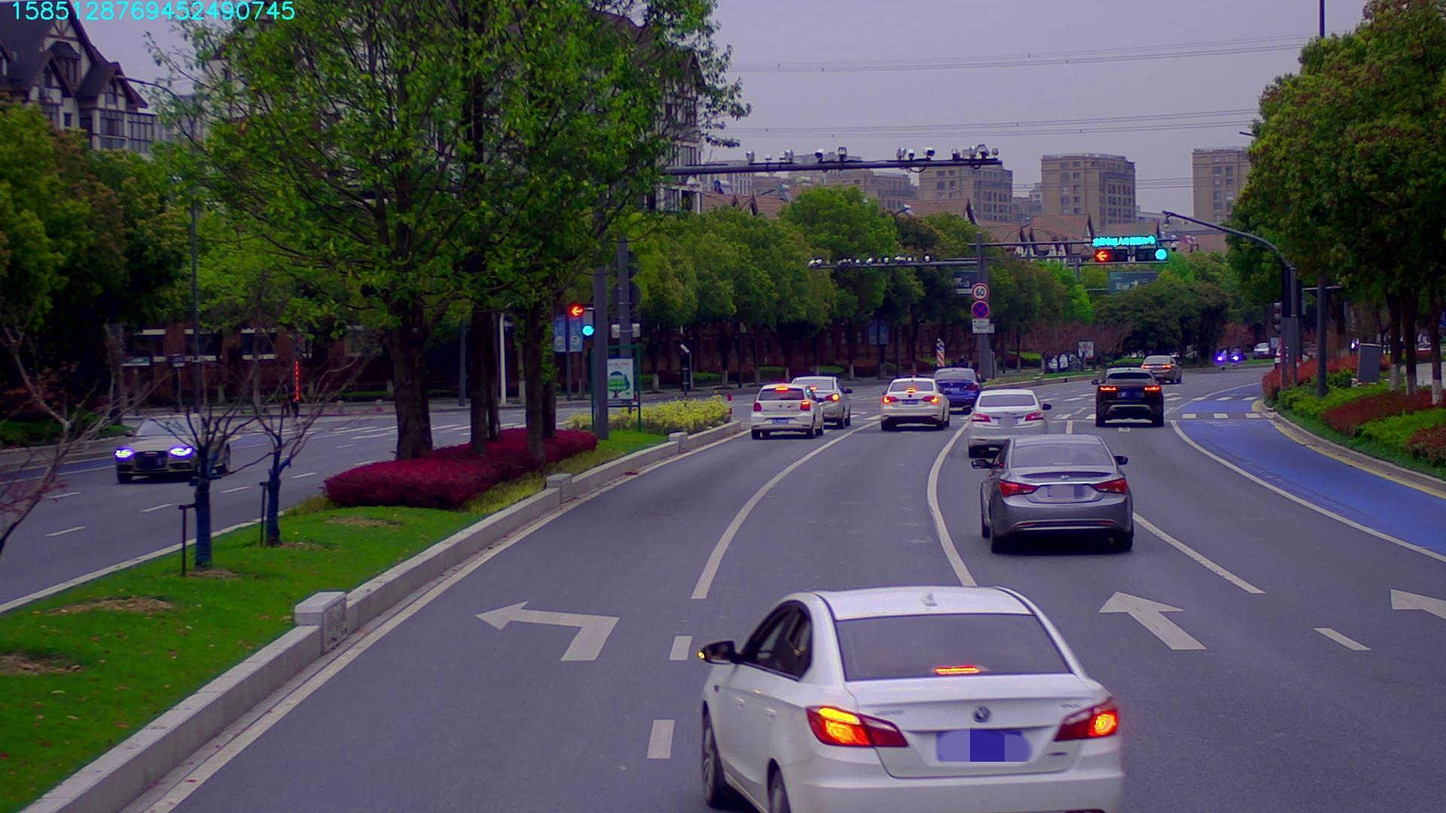green: (1141, 248, 1165, 262)
red: (1092, 250, 1125, 261)
wait_on: (1088, 233, 1163, 244)
